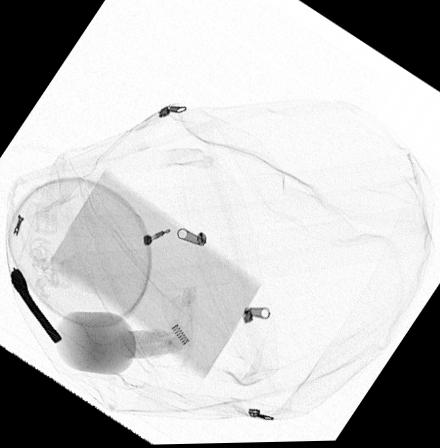Gun: (8, 267, 61, 346)
